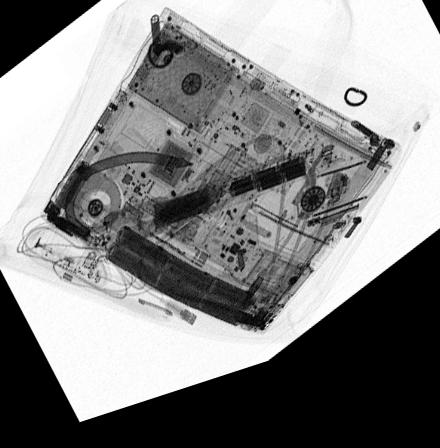Baton: (100, 154, 352, 257)
